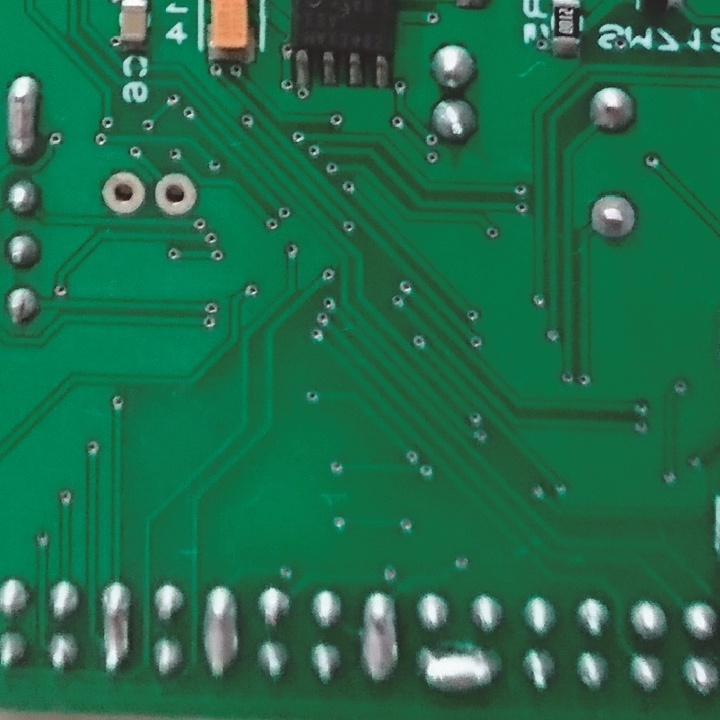F: (587, 189, 638, 243), (153, 169, 200, 223), (100, 166, 147, 215)
P: (414, 642, 504, 695), (94, 575, 134, 680), (200, 580, 241, 681), (359, 586, 399, 686), (4, 72, 40, 161)
